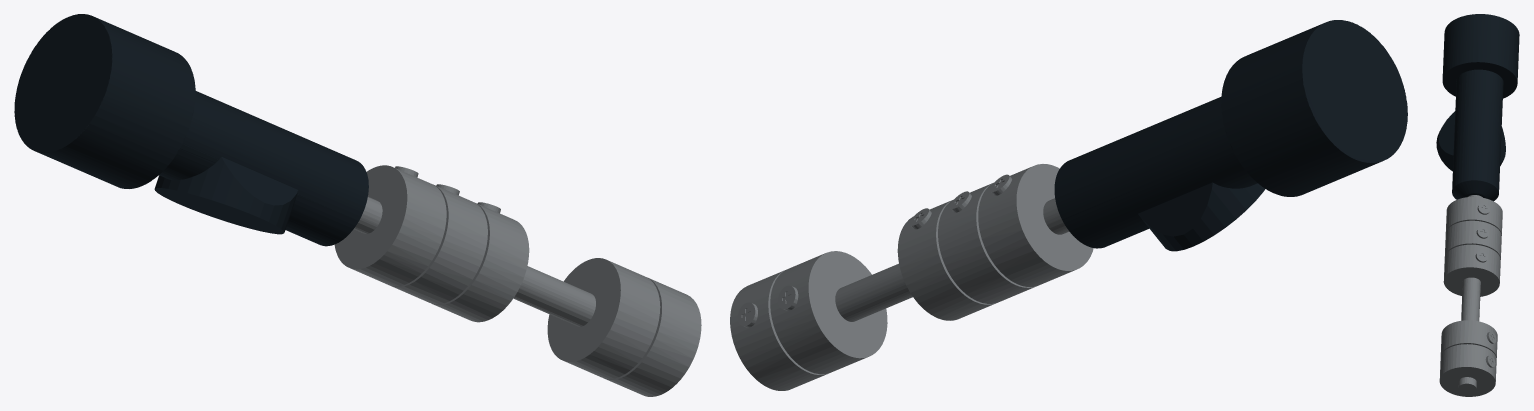
File: telescope_3_turntable_arm.fbx
3 renders of one model, left to right at view 1: azimuth 30°, elevation 25°; view 2: azimuth 150°, elevation 25°; view 3: azimuth 270°, elevation 25°, orthographic. The views are drawn at different scales.
Visible parts, largest first — view 1: 3_turntable_arm; view 2: 3_turntable_arm; view 3: 3_turntable_arm.
Boxes of the visible parts, bbox=[...] form: 3_turntable_arm: bbox=[14, 14, 701, 396]; 3_turntable_arm: bbox=[730, 20, 1407, 390]; 3_turntable_arm: bbox=[1436, 14, 1519, 396].
Bounding box in the file's own units: 160 × 116 × 34.74.
